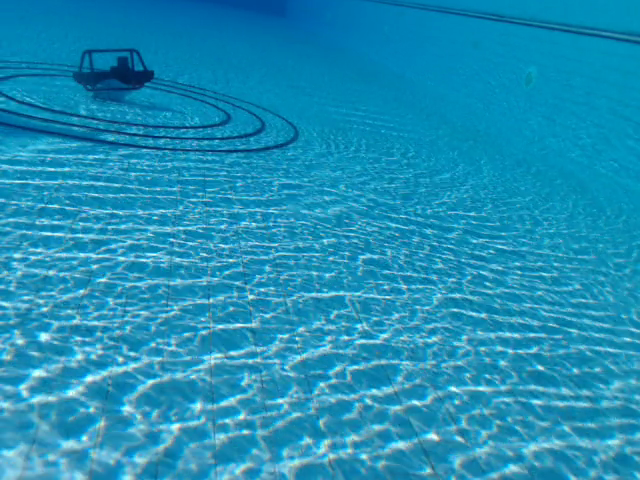submarine: (71, 47, 155, 102)
